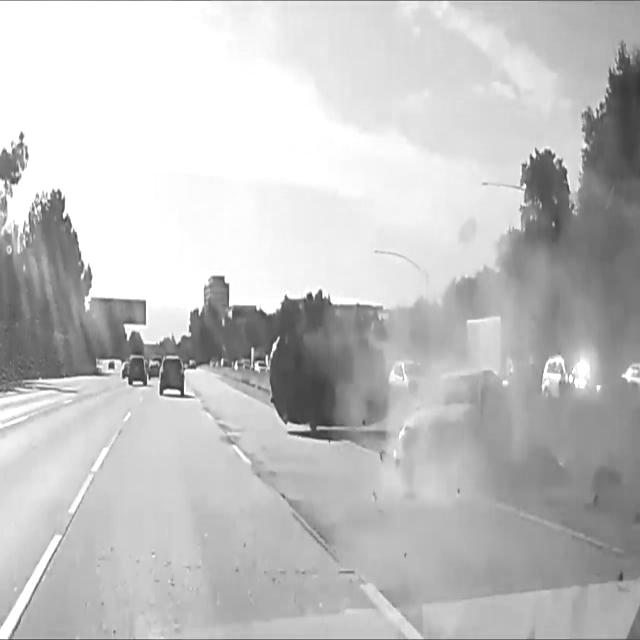accident: (269, 304, 511, 472), (268, 302, 394, 436)
